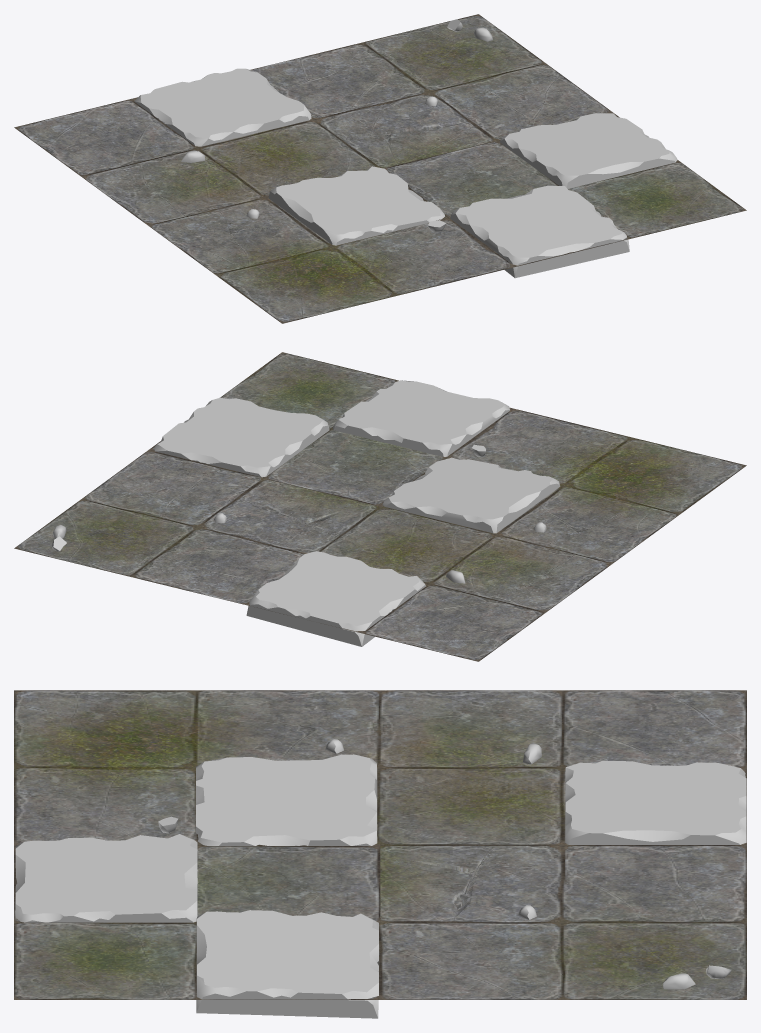
File: Floor_Lvl2_14.fbx
3 views of the same model, one above another, from view 1: azimuth 30°, elevation 25°; view 2: azimuth 150°, elevation 25°; view 3: azimuth 270°, elevation 25° (orthographic). The views are drawn at different scales.
Parts seen in each view (by area): view 1: StoneFloor.002; view 2: StoneFloor.002; view 3: StoneFloor.002.
Boxes of the visible parts, <box> form: StoneFloor.002: <box>14,14,746,323</box>; StoneFloor.002: <box>14,352,746,661</box>; StoneFloor.002: <box>14,690,746,1018</box>.
Size of the model in its own units: 382 by 20.6 by 382.
